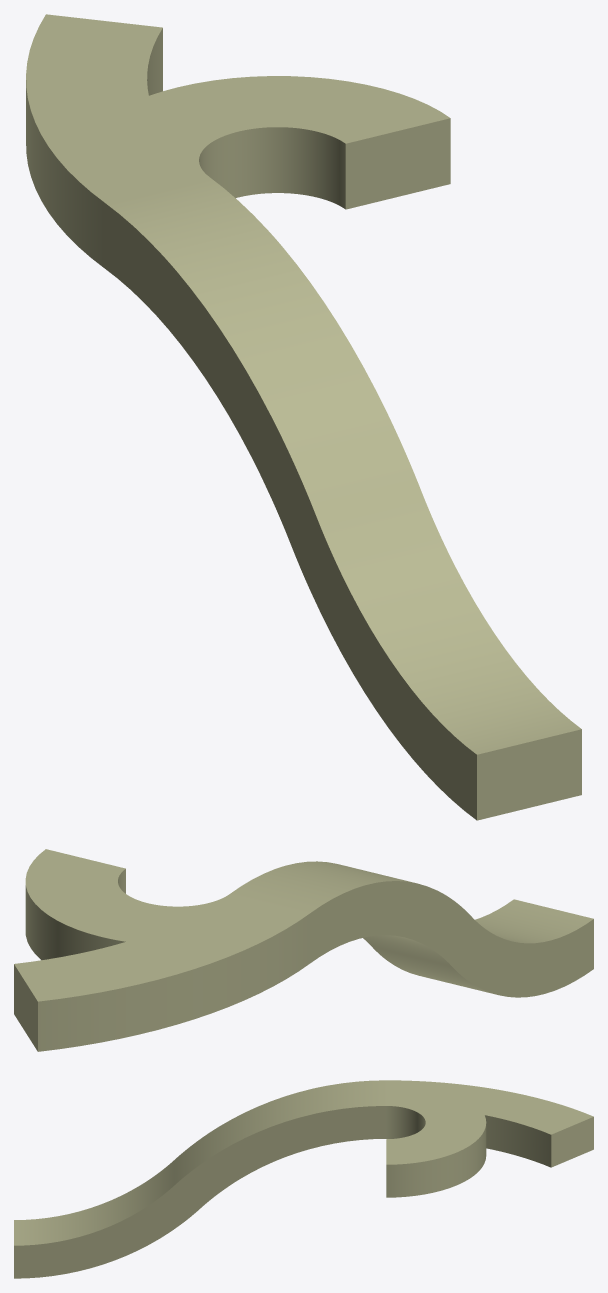
Rendered from model_07_hover.glb.
3 views of the same model, one above another, from view 1: azimuth 30°, elevation 25°; view 2: azimuth 150°, elevation 25°; view 3: azimuth 270°, elevation 25° (orthographic). The views are drawn at different scales.
Size of the model in its own units: 101 by 95.91 by 292.
